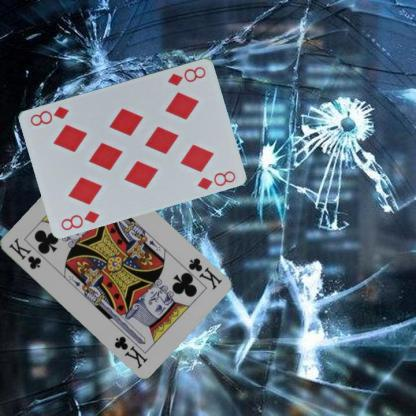8d: (58, 207, 101, 232), (165, 64, 208, 87)
Kc: (185, 255, 223, 291), (6, 235, 42, 271)
